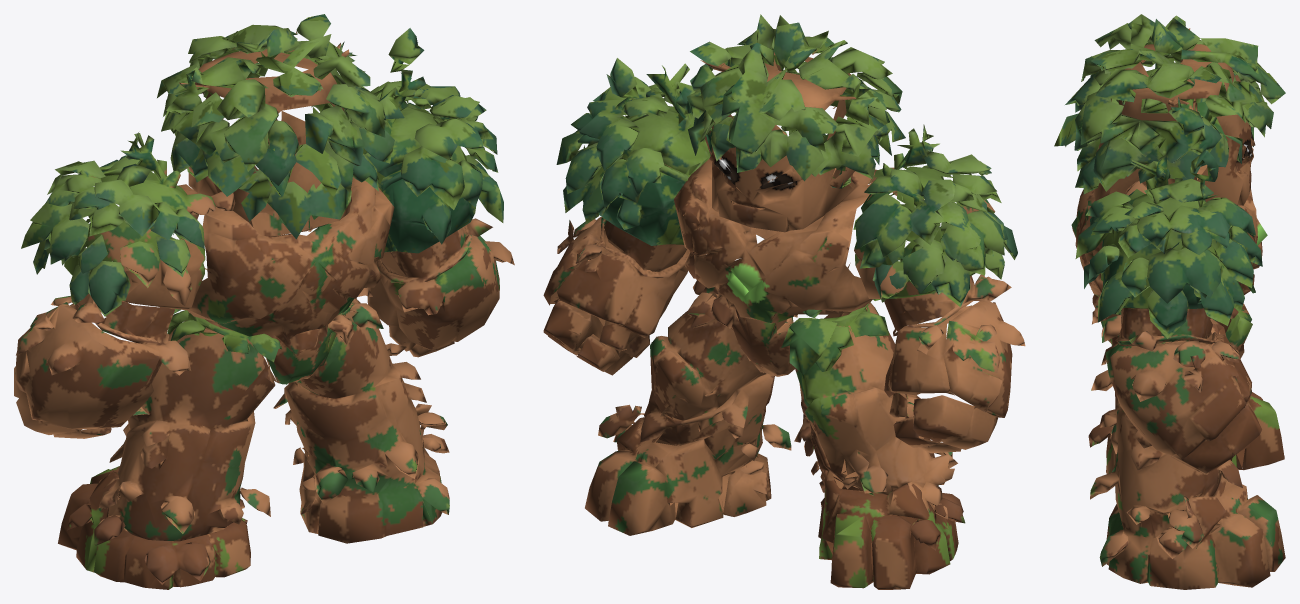
File: Bramble.glb
The picture shows the model from 3 angles, left to right: view 1: azimuth 30°, elevation 25°; view 2: azimuth 150°, elevation 25°; view 3: azimuth 270°, elevation 25°; orthographic projection. The views are drawn at different scales.
Visible parts, largest first — view 1: Body, Head, LegL, LegR, ArmL, ArmR; view 2: Body, Head, LegR, LegL, ArmL, ArmR; view 3: Head, Body, LegR, ArmR, LegL.
Part boxes in pixels (x1,y1,x2,y2): Body: (21, 28, 503, 384); Head: (157, 14, 394, 239); LegL: (58, 319, 275, 589); LegR: (273, 287, 449, 543); ArmL: (14, 293, 191, 438); ArmR: (367, 218, 514, 357); Body: (556, 58, 1017, 376); Head: (684, 14, 905, 232); LegR: (585, 280, 797, 535); LegL: (794, 303, 965, 589); ArmL: (884, 274, 1025, 453); ArmR: (543, 217, 705, 375); Head: (1054, 14, 1285, 205); Body: (1071, 40, 1267, 343); LegR: (1090, 311, 1285, 589); ArmR: (1101, 308, 1261, 474); LegL: (1088, 303, 1284, 473).
Size of the model in its own units: 2.13 by 2.24 by 0.9556.
Materials: 1 (1 with a texture image).
